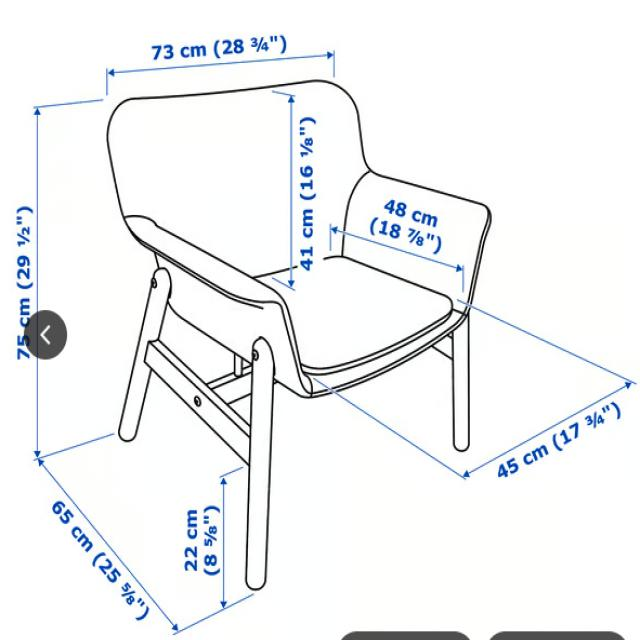Armrest: (121, 215, 312, 398), (341, 168, 495, 307)
Backrest: (104, 79, 372, 281)
Leg_Structure: (117, 265, 276, 593)
Seat: (251, 254, 467, 395)
